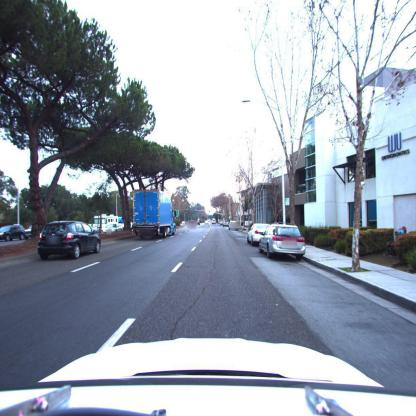car: (38, 221, 102, 261), (260, 224, 306, 260), (247, 224, 269, 247), (0, 224, 28, 241), (229, 221, 240, 230)
truck: (132, 191, 176, 239), (94, 213, 124, 235)
